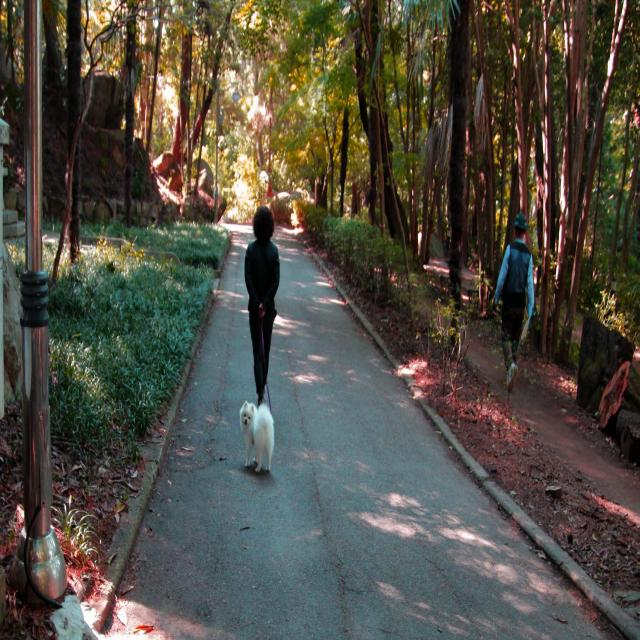Leashed_Dog: (240, 304, 274, 472)
